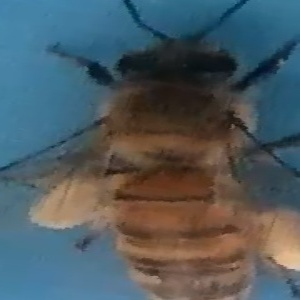bee: (22, 3, 300, 300)
